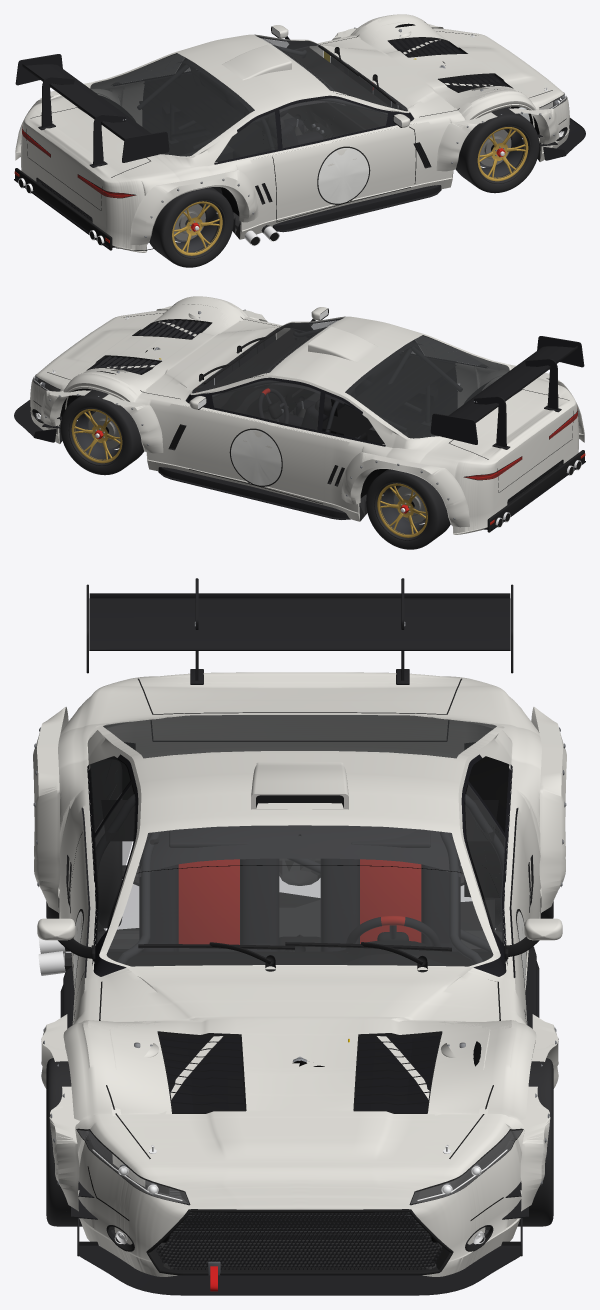
File: coupe-gt_studio.glb
3 views of the same model, one above another, from view 1: azimuth 30°, elevation 25°; view 2: azimuth 150°, elevation 25°; view 3: azimuth 270°, elevation 25° (orthographic). The views are drawn at different scales.
Parts seen in each view (by area): view 1: body, hood, wheel_fr, wheel_rr, bay, lamp_tail; view 2: body, hood, wheel_fl, wheel_rl, bay, lamp_tail; view 3: body, hood, under, bay, wheel_rr, lamp_head, wheel_fr, hide, wheel_fl.
Boxes of the visible parts, left/top/right/bottom form: body: left=14, top=14, right=585, bottom=252; hood: left=321, top=18, right=558, bottom=117; wheel_fr: left=455, top=107, right=539, bottom=193; wheel_rr: left=149, top=187, right=233, bottom=267; bay: left=320, top=23, right=552, bottom=164; lamp_tail: left=22, top=128, right=134, bottom=197; body: left=14, top=296, right=585, bottom=534; hood: left=41, top=300, right=278, bottom=399; wheel_fl: left=60, top=389, right=144, bottom=475; wheel_rl: left=366, top=469, right=450, bottom=549; bay: left=60, top=311, right=279, bottom=432; lamp_tail: left=465, top=410, right=577, bottom=479; body: left=33, top=578, right=566, bottom=1295; hood: left=98, top=971, right=501, bottom=1172; under: left=64, top=858, right=502, bottom=1269; bay: left=112, top=1039, right=485, bottom=1244; wheel_rr: left=46, top=759, right=122, bottom=928; lamp_head: left=78, top=1130, right=521, bottom=1243; wheel_fr: left=46, top=1058, right=112, bottom=1226; hide: left=157, top=1239, right=442, bottom=1260; wheel_fl: left=517, top=1058, right=553, bottom=1226.
Size of the model in its own units: 4.63 by 1.27 by 2.18.
